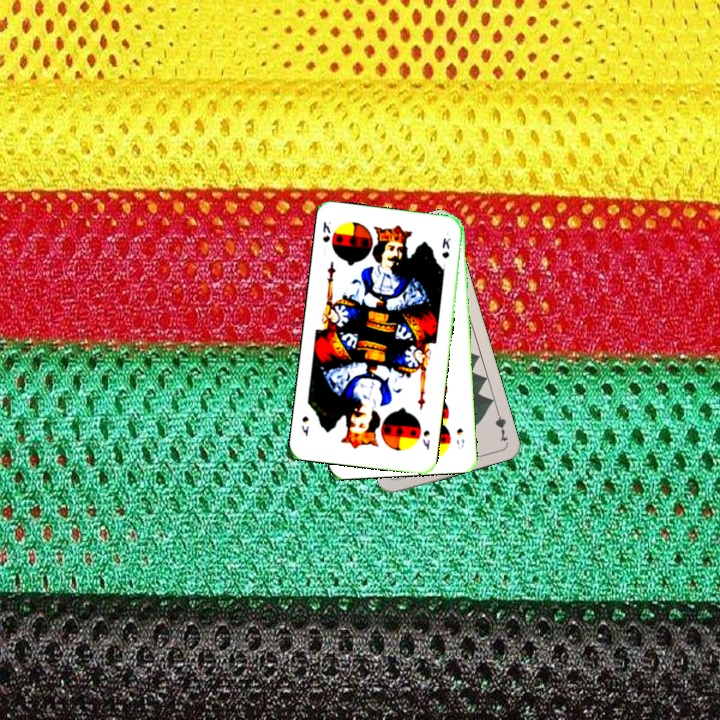G7: (491, 404, 510, 444)
S8: (452, 424, 467, 451)
SK: (319, 217, 333, 245), (418, 426, 432, 453)
